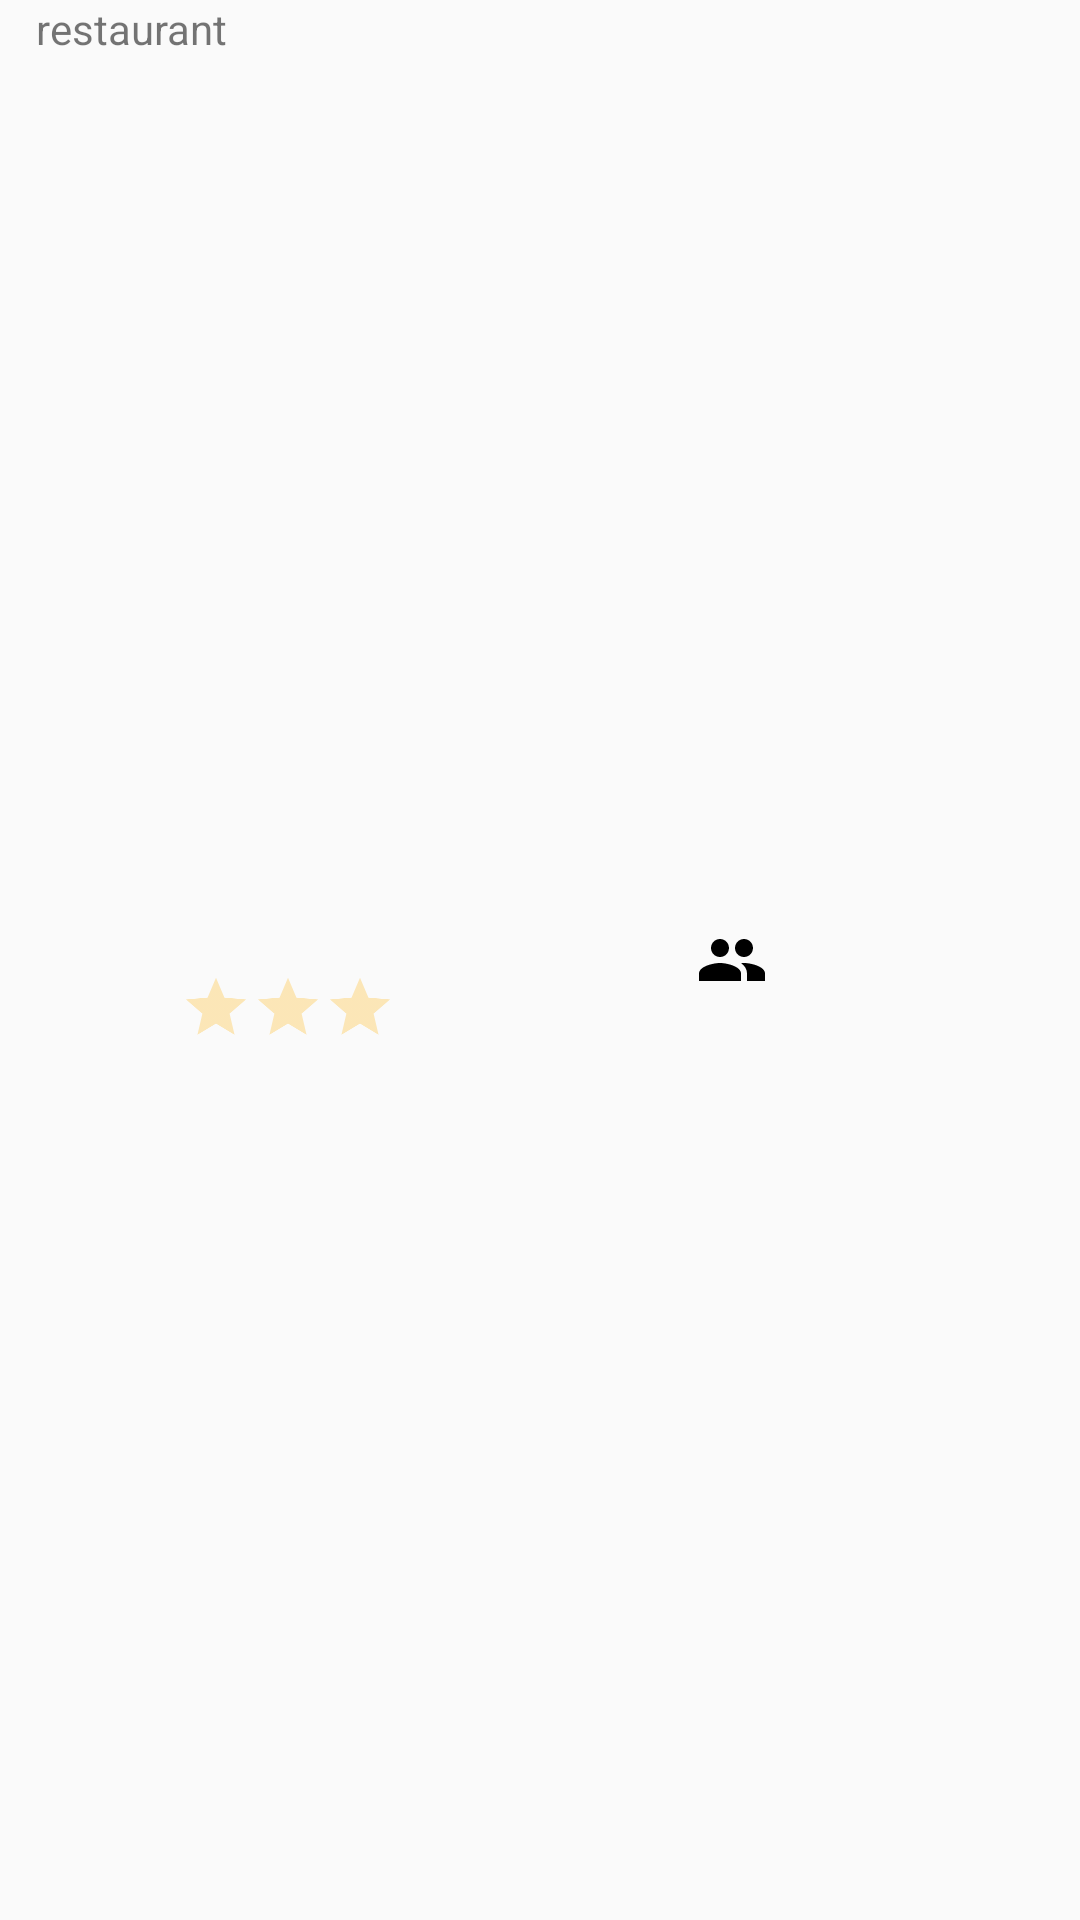

Icons on this 1080 × 1920 Android screen, each with its box as (x1, y1, x2, y2):
people: (699, 939, 765, 981)
